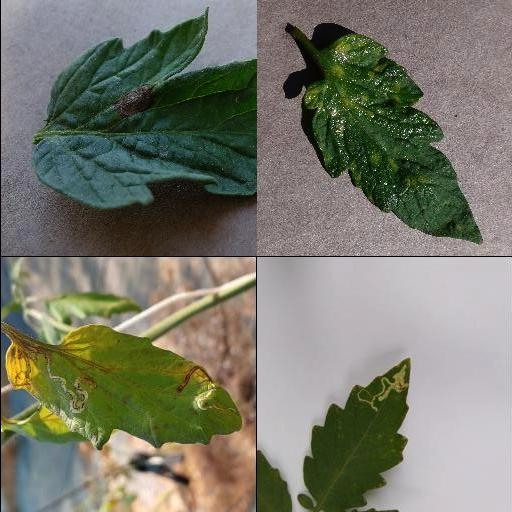Early Blight: (36, 7, 256, 212)
Leaf Miner: (1, 319, 243, 451), (303, 356, 412, 512)
Leaf Mold: (304, 31, 482, 245)
